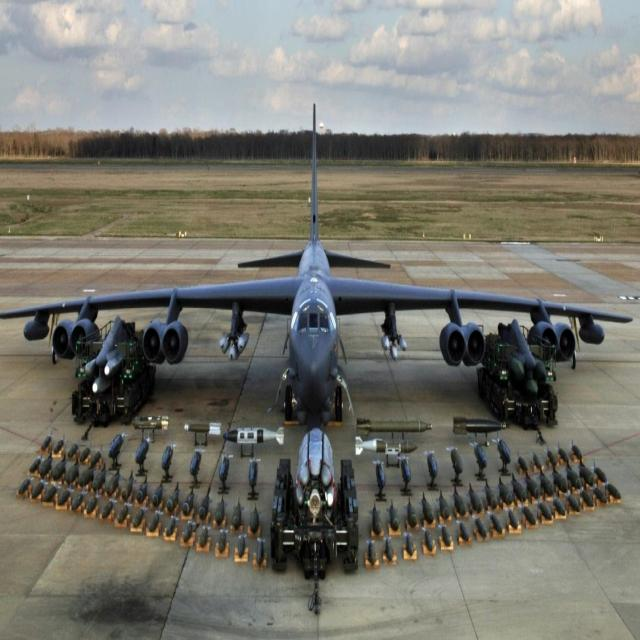MIL_Plane: (0, 0, 441, 233)
